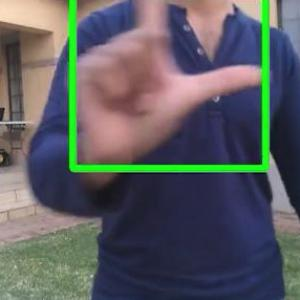land_hand: (63, 0, 274, 164)
